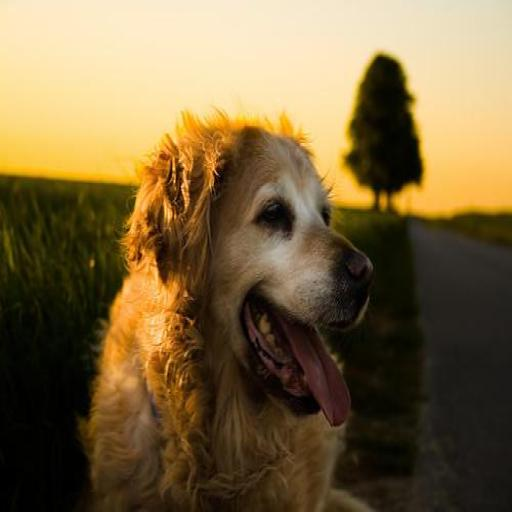dog_face: (161, 119, 364, 431)
